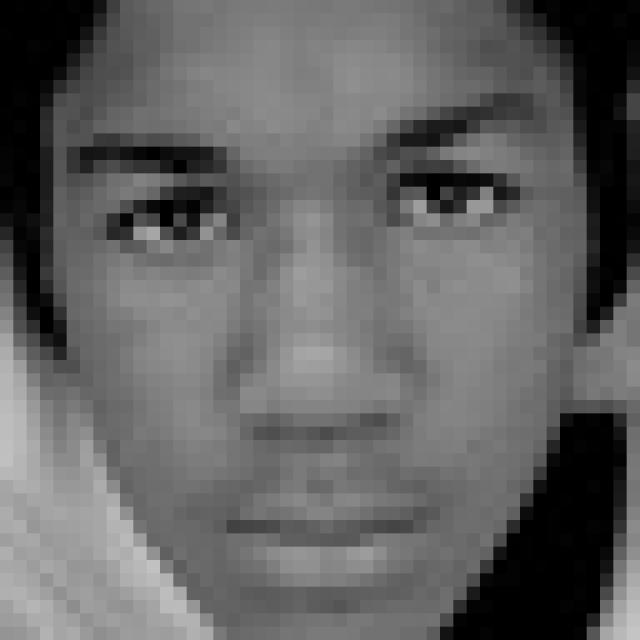neutral: (71, 79, 546, 603)
